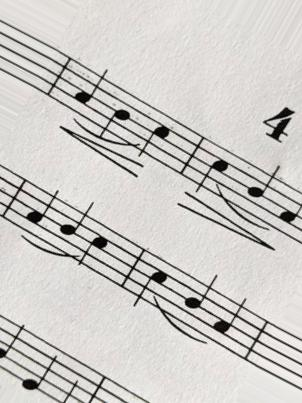A: (71, 57, 109, 131), (212, 288, 247, 362), (22, 180, 58, 248)
B: (241, 154, 280, 239), (57, 196, 100, 273), (181, 264, 219, 344), (100, 72, 131, 147)
E: (22, 329, 60, 402)
HC: (131, 244, 170, 315), (75, 211, 113, 282), (192, 127, 226, 206), (136, 95, 170, 171)
